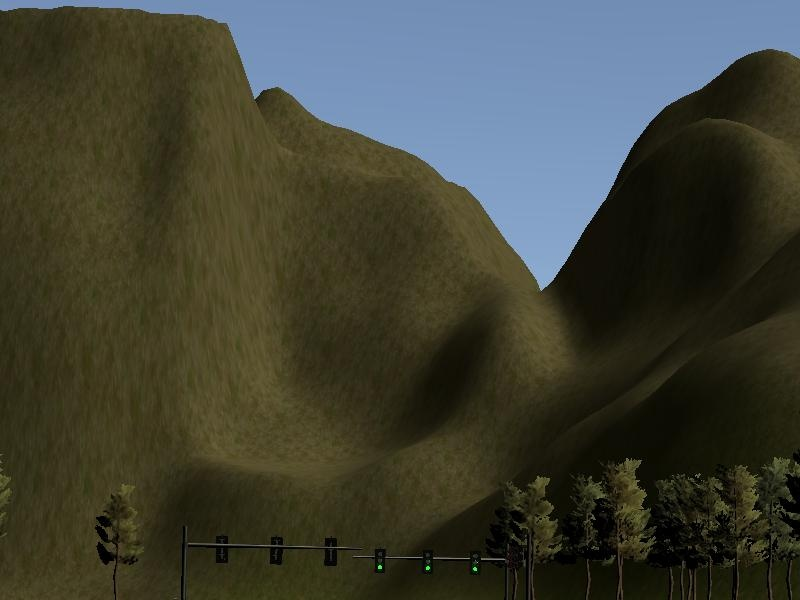green: (418, 543, 437, 575), (465, 547, 484, 575), (371, 546, 387, 575)
